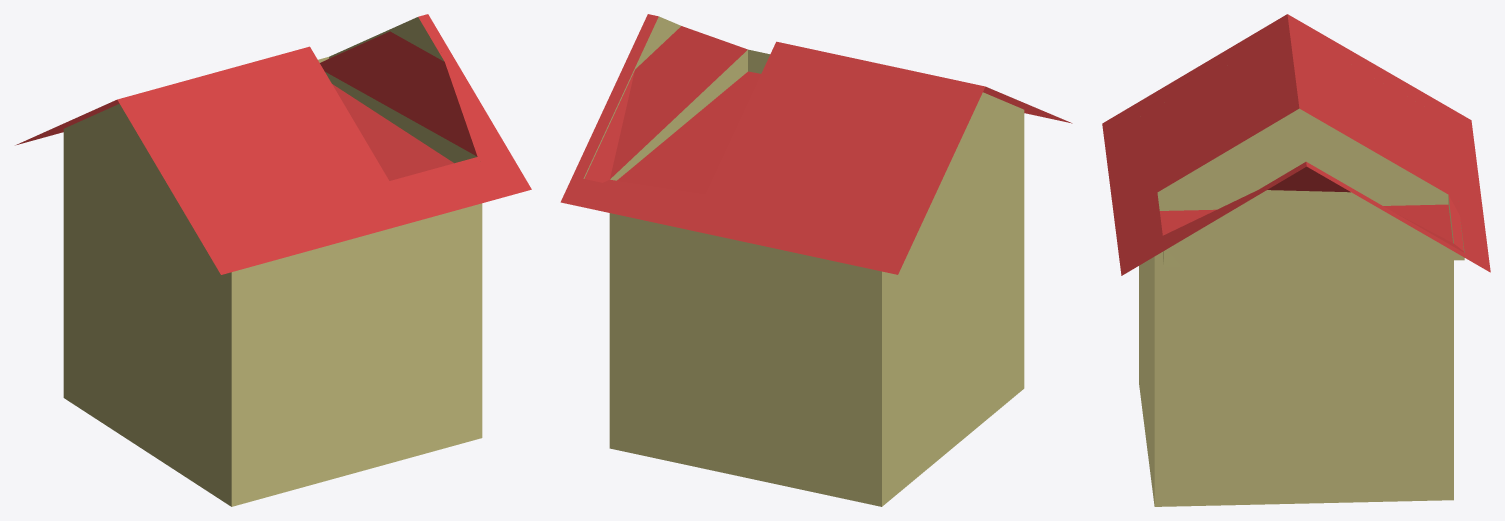
3 views of the same model, side by side, from view 1: azimuth 30°, elevation 25°; view 2: azimuth 150°, elevation 25°; view 3: azimuth 270°, elevation 25° (orthographic). The views are drawn at different scales.
Bounding box in the file's own units: 10.86 × 11.09 × 11.08.
